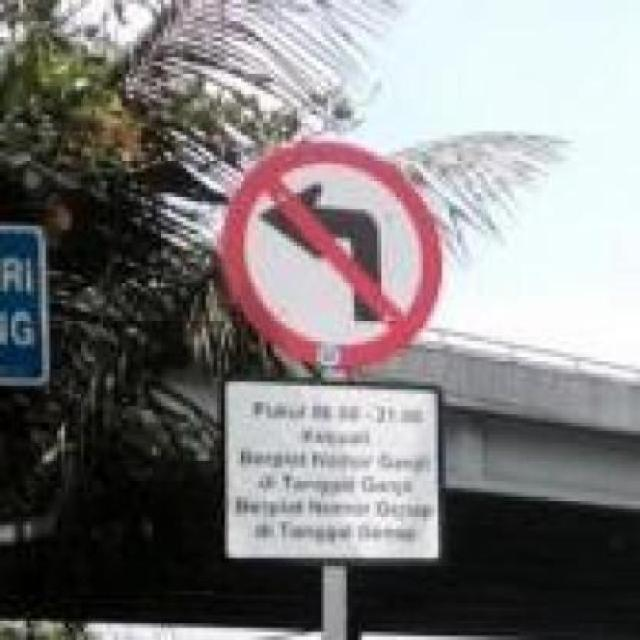left turn prohibited: (215, 134, 446, 365)
